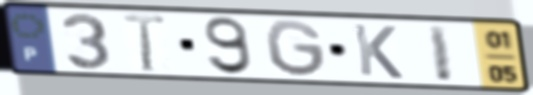3: (58, 10, 113, 72)
9: (200, 14, 256, 78)
G: (262, 17, 330, 79)
I: (424, 23, 457, 84)
K: (350, 22, 406, 81)
T: (119, 11, 169, 74)
